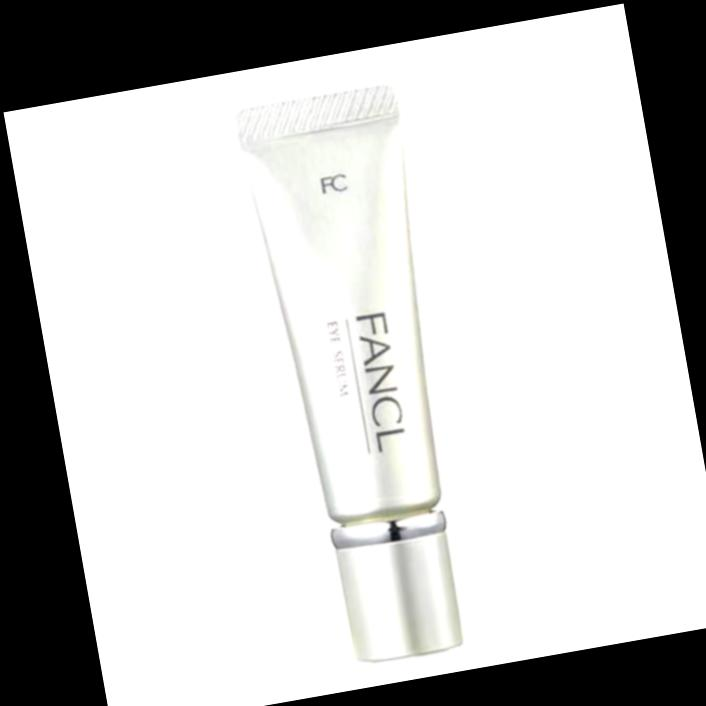cosmetic: (233, 80, 483, 671)
